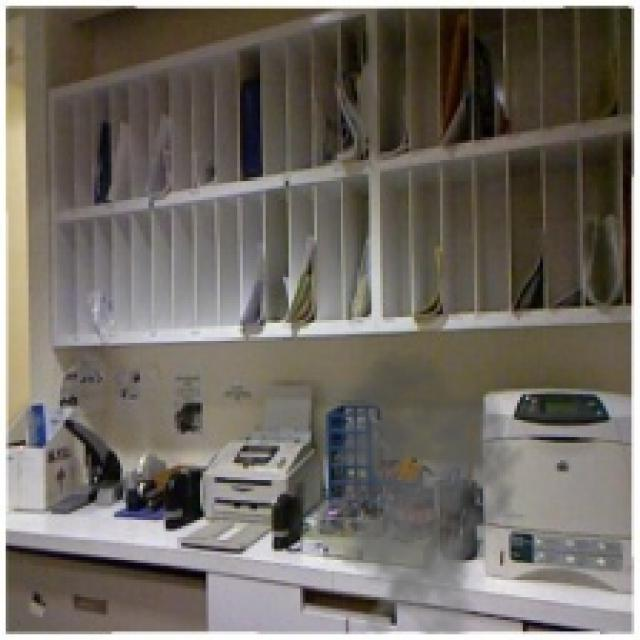smoke: (303, 352, 526, 634)
